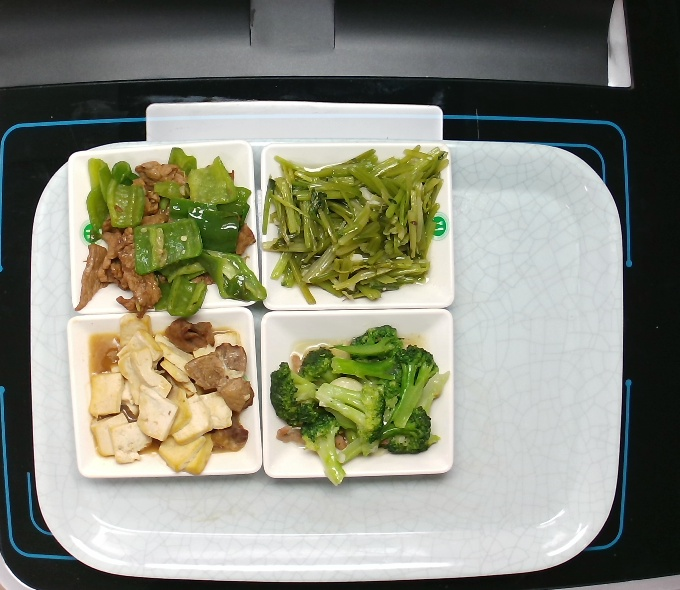wcq-DouFuRouPian: (78, 315, 257, 479)
wcq-QinCai: (249, 133, 456, 304)
wcq-QingJiaoChaoRou: (80, 142, 260, 312)
wcq-XiLanHua: (275, 321, 448, 468)
